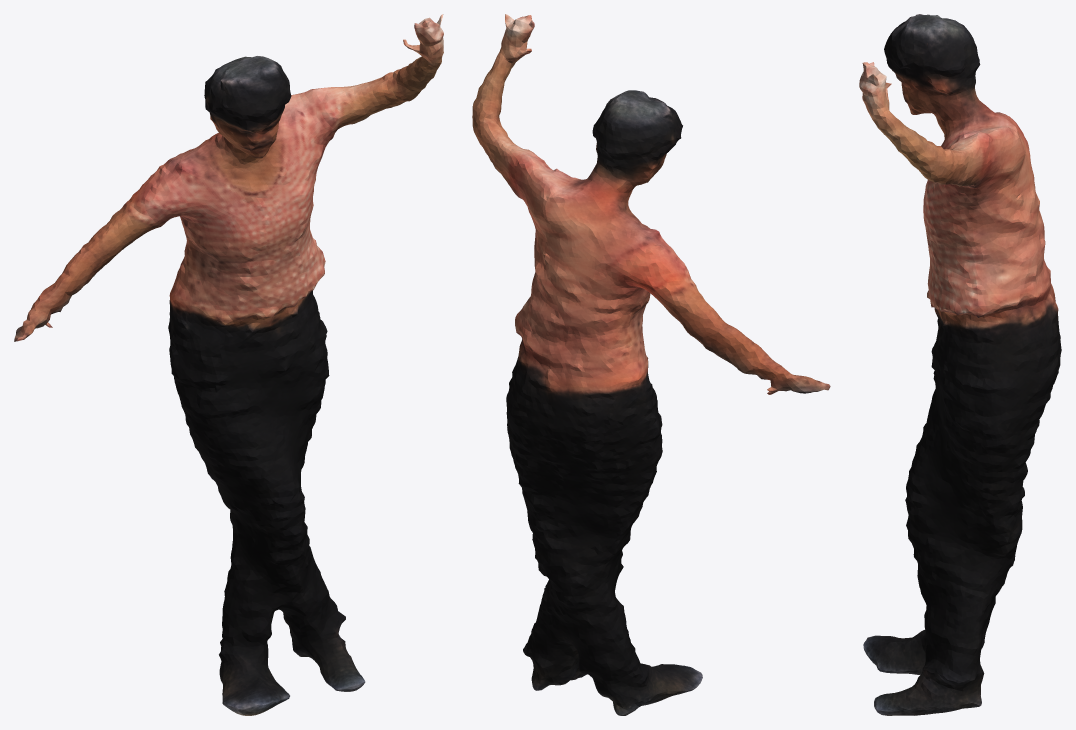
Rendered from 0048_000_0528_00078_01_00221_gau.glb.
3 views of the same model, side by side, from view 1: azimuth 30°, elevation 25°; view 2: azimuth 150°, elevation 25°; view 3: azimuth 270°, elevation 25° (orthographic). The views are drawn at different scales.
Bounding box in the file's own units: 0.8819 × 1.42 × 0.3796.
1 material, 1 textured.
